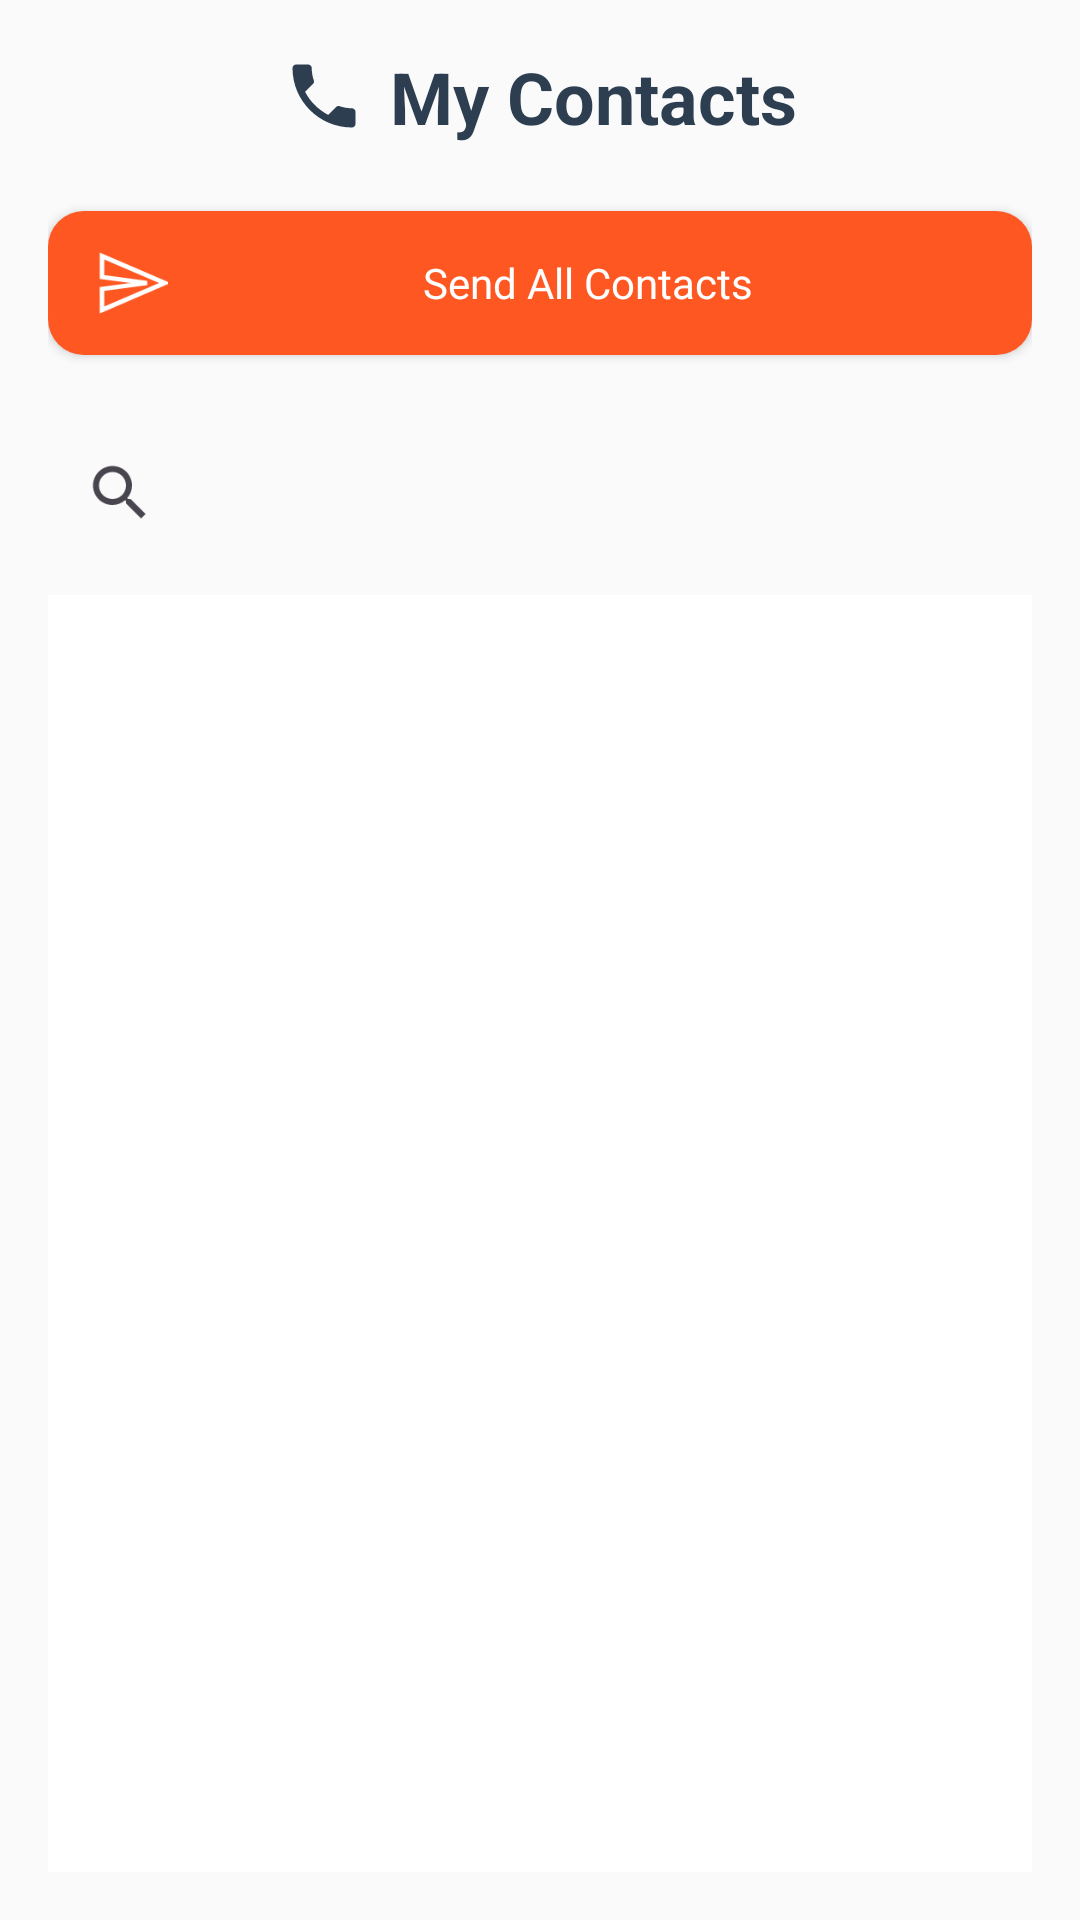

Screen size 1080w x 1920h. Icon name, then its box in pixels as [left=x1, top=y1, right=x2, bottom=y2]:
Phone icon: [left=292, top=64, right=356, bottom=128]
